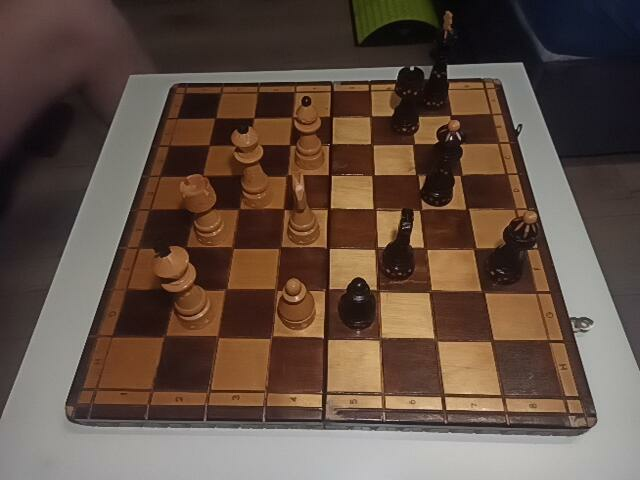B-Bishop: (487, 211, 539, 286)
B-King: (424, 11, 457, 111)
B-Knight: (381, 208, 415, 280)
B-Pawn: (341, 279, 378, 330)
B-Queen: (420, 120, 466, 206)
B-Rook: (391, 66, 424, 135)
W-Bishop: (293, 96, 327, 172)
W-King: (147, 237, 213, 329)
W-Knight: (287, 175, 321, 244)
W-Pawn: (278, 278, 316, 330)
W-Queen: (231, 123, 272, 206)
W-Rook: (180, 174, 226, 245)
